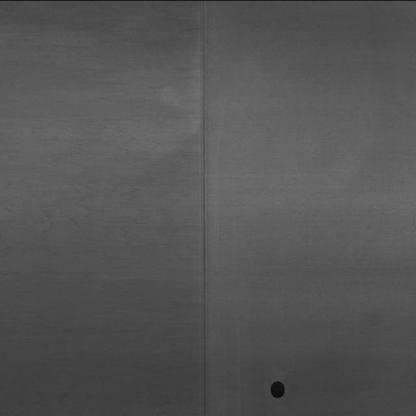punching_hole: (264, 378, 290, 400)
welding_line: (187, 7, 218, 414)
